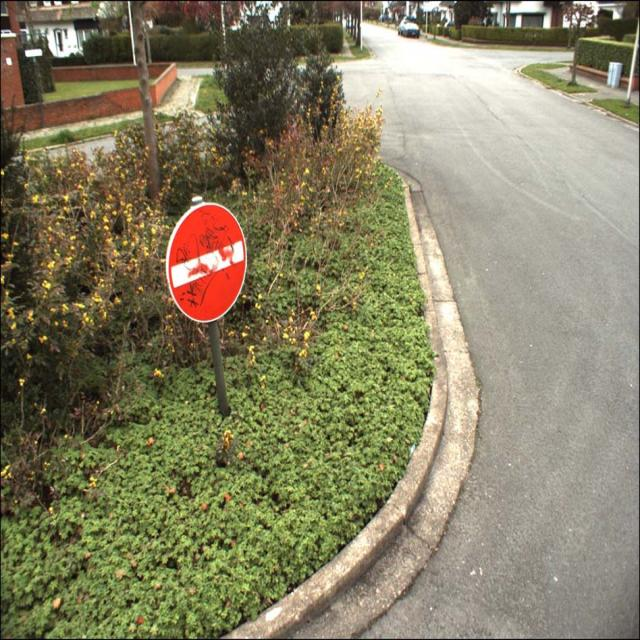girisyok: (165, 201, 248, 323)
